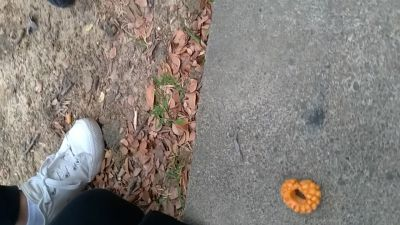eggs: (278, 179, 322, 214)
